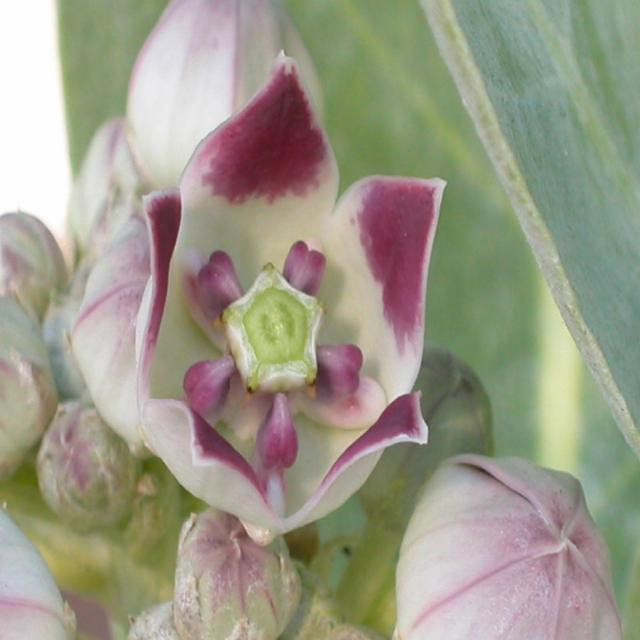Poisonous-Calatropis: (0, 14, 435, 622), (388, 464, 614, 640)
